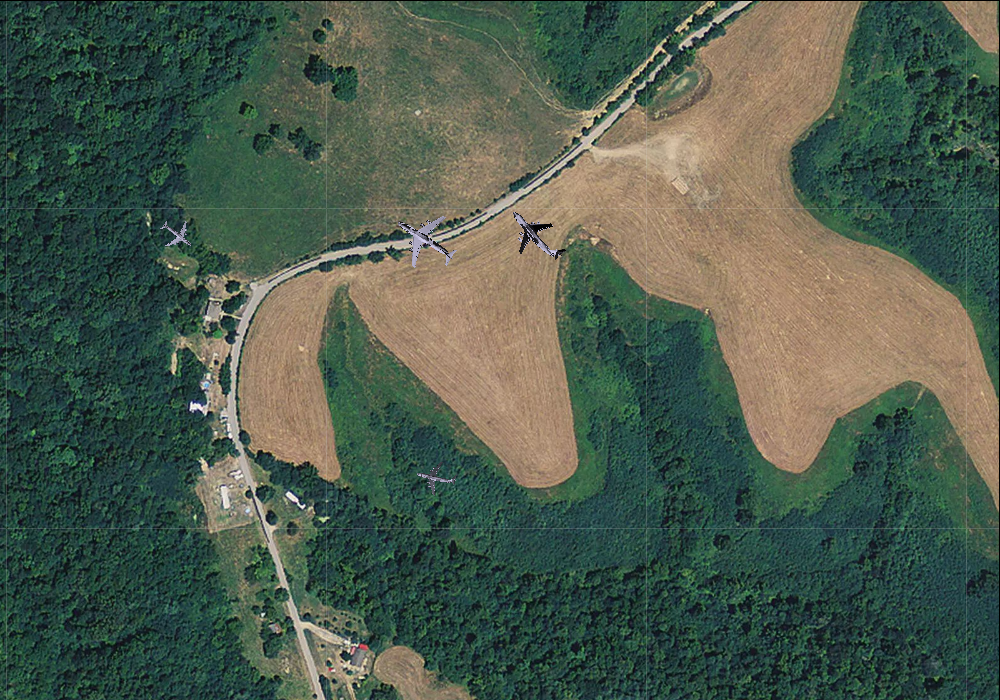plane: (381, 196, 470, 284), (494, 191, 579, 277), (152, 210, 201, 259), (412, 453, 460, 501)
